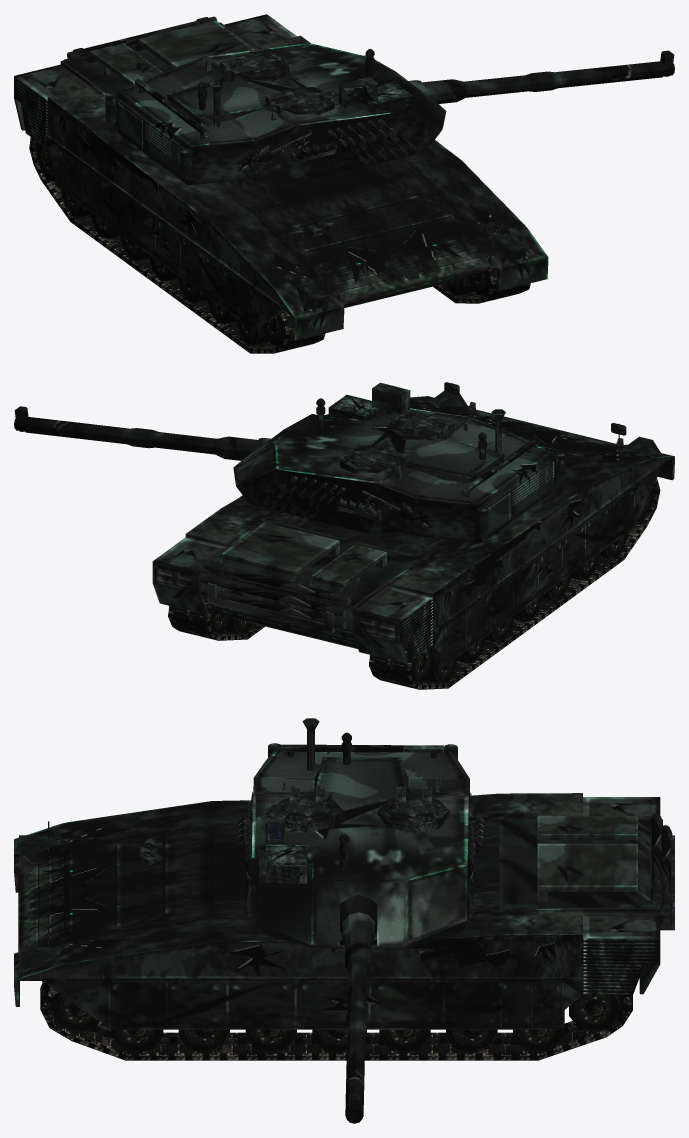
Rendered from Ariete2.fbx.
The picture shows the model from 3 angles, top to bottom: view 1: azimuth 30°, elevation 25°; view 2: azimuth 150°, elevation 25°; view 3: azimuth 270°, elevation 25°; orthographic projection. The views are drawn at different scales.
Visible parts, largest first — view 1: polySurface267, polySurface295, polySurface275, polySurface331, polySurface284, polySurface276, polySurface266, polySurface289, polySurface296, polySurface285, polySurface263, polySurface288 (+3 smaller); view 2: polySurface267, polySurface295, polySurface275, polySurface331, polySurface284, polySurface276, polySurface266, polySurface262, polySurface263, polySurface261, polySurface296, polySurface289 (+6 smaller); view 3: polySurface275, polySurface295, polySurface267, polySurface331, polySurface276, polySurface284, polySurface266, polySurface296, polySurface289, polySurface288, polySurface82, polySurface291 (+13 smaller).
Boxes of the visible parts, left/top/right/bottom form: polySurface267: left=14, top=56, right=419, bottom=340; polySurface295: left=114, top=43, right=446, bottom=185; polySurface275: left=63, top=14, right=548, bottom=298; polySurface331: left=29, top=137, right=530, bottom=353; polySurface284: left=408, top=50, right=674, bottom=103; polySurface276: left=134, top=20, right=255, bottom=68; polySurface266: left=85, top=43, right=162, bottom=85; polySurface289: left=275, top=87, right=334, bottom=114; polySurface296: left=229, top=53, right=289, bottom=80; polySurface285: left=338, top=77, right=377, bottom=109; polySurface263: left=67, top=16, right=217, bottom=60; polySurface288: left=370, top=82, right=412, bottom=111; polySurface267: left=276, top=427, right=674, bottom=669; polySurface295: left=233, top=408, right=556, bottom=542; polySurface275: left=152, top=396, right=548, bottom=638; polySurface331: left=168, top=479, right=660, bottom=689; polySurface284: left=14, top=406, right=271, bottom=460; polySurface276: left=219, top=522, right=339, bottom=583; polySurface266: left=309, top=544, right=386, bottom=593; polySurface262: left=207, top=583, right=338, bottom=633; polySurface263: left=204, top=561, right=351, bottom=604; polySurface261: left=200, top=574, right=347, bottom=616; polySurface296: left=340, top=445, right=398, bottom=473; polySurface289: left=386, top=412, right=444, bottom=439; polySurface275: left=14, top=819, right=660, bottom=1029; polySurface295: left=251, top=746, right=469, bottom=948; polySurface267: left=14, top=793, right=660, bottom=909; polySurface331: left=40, top=982, right=632, bottom=1060; polySurface276: left=537, top=843, right=650, bottom=901; polySurface284: left=340, top=894, right=377, bottom=1123; polySurface266: left=537, top=816, right=650, bottom=849; polySurface296: left=378, top=795, right=449, bottom=833; polySurface289: left=277, top=795, right=343, bottom=832; polySurface288: left=265, top=844, right=307, bottom=883; polySurface82: left=569, top=994, right=620, bottom=1032; polySurface291: left=281, top=744, right=443, bottom=752.
Bounding box in the file's own units: 32.41 × 11.67 × 30.64.
